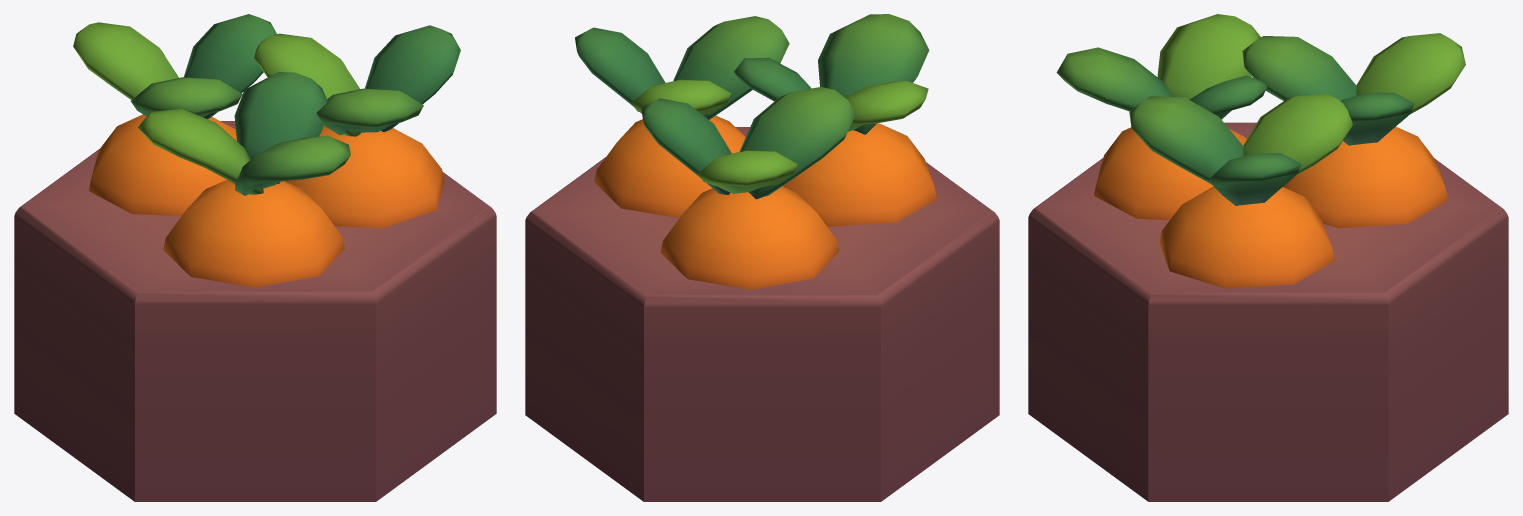
The model's file is farm_carrot3.fbx.
3 renders of one model, left to right at view 1: azimuth 30°, elevation 25°; view 2: azimuth 150°, elevation 25°; view 3: azimuth 270°, elevation 25°, orthographic.
Parts seen in each view (by area): view 1: hexagon_soil1, Farm_Carrot.009, Farm_Carrot.011, Farm_Carrot.010; view 2: hexagon_soil1, Farm_Carrot.010, Farm_Carrot.009, Farm_Carrot.011; view 3: hexagon_soil1, Farm_Carrot.011, Farm_Carrot.010, Farm_Carrot.009.
Boxes of the visible parts, left/top/right/bottom form: hexagon_soil1: left=14, top=121, right=496, bottom=501; Farm_Carrot.009: left=137, top=72, right=350, bottom=287; Farm_Carrot.011: left=254, top=25, right=460, bottom=228; Farm_Carrot.010: left=73, top=14, right=276, bottom=216; hexagon_soil1: left=525, top=127, right=999, bottom=501; Farm_Carrot.010: left=641, top=86, right=855, bottom=289; Farm_Carrot.009: left=734, top=14, right=936, bottom=226; Farm_Carrot.011: left=575, top=16, right=789, bottom=218; hexagon_soil1: left=1028, top=122, right=1508, bottom=501; Farm_Carrot.011: left=1129, top=93, right=1352, bottom=288; Farm_Carrot.010: left=1242, top=33, right=1465, bottom=228; Farm_Carrot.009: left=1056, top=14, right=1266, bottom=220.
Bounding box in the file's own units: 379 × 332 × 423.
2 materials, 2 textured.
